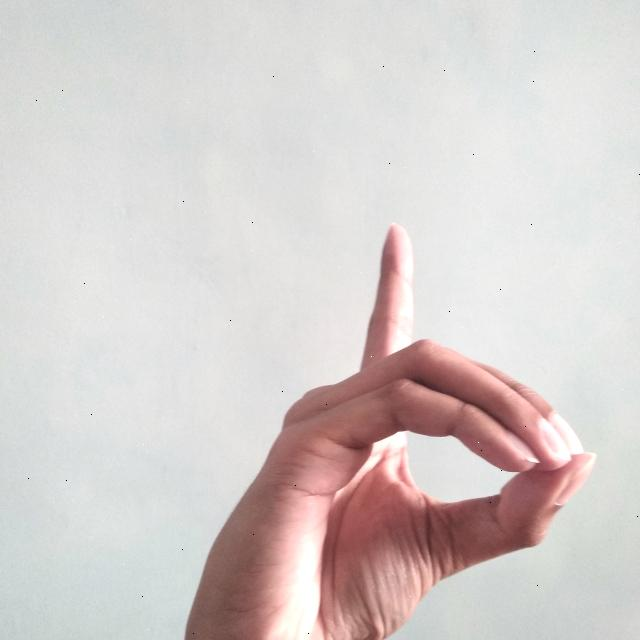D: (183, 219, 596, 640)
